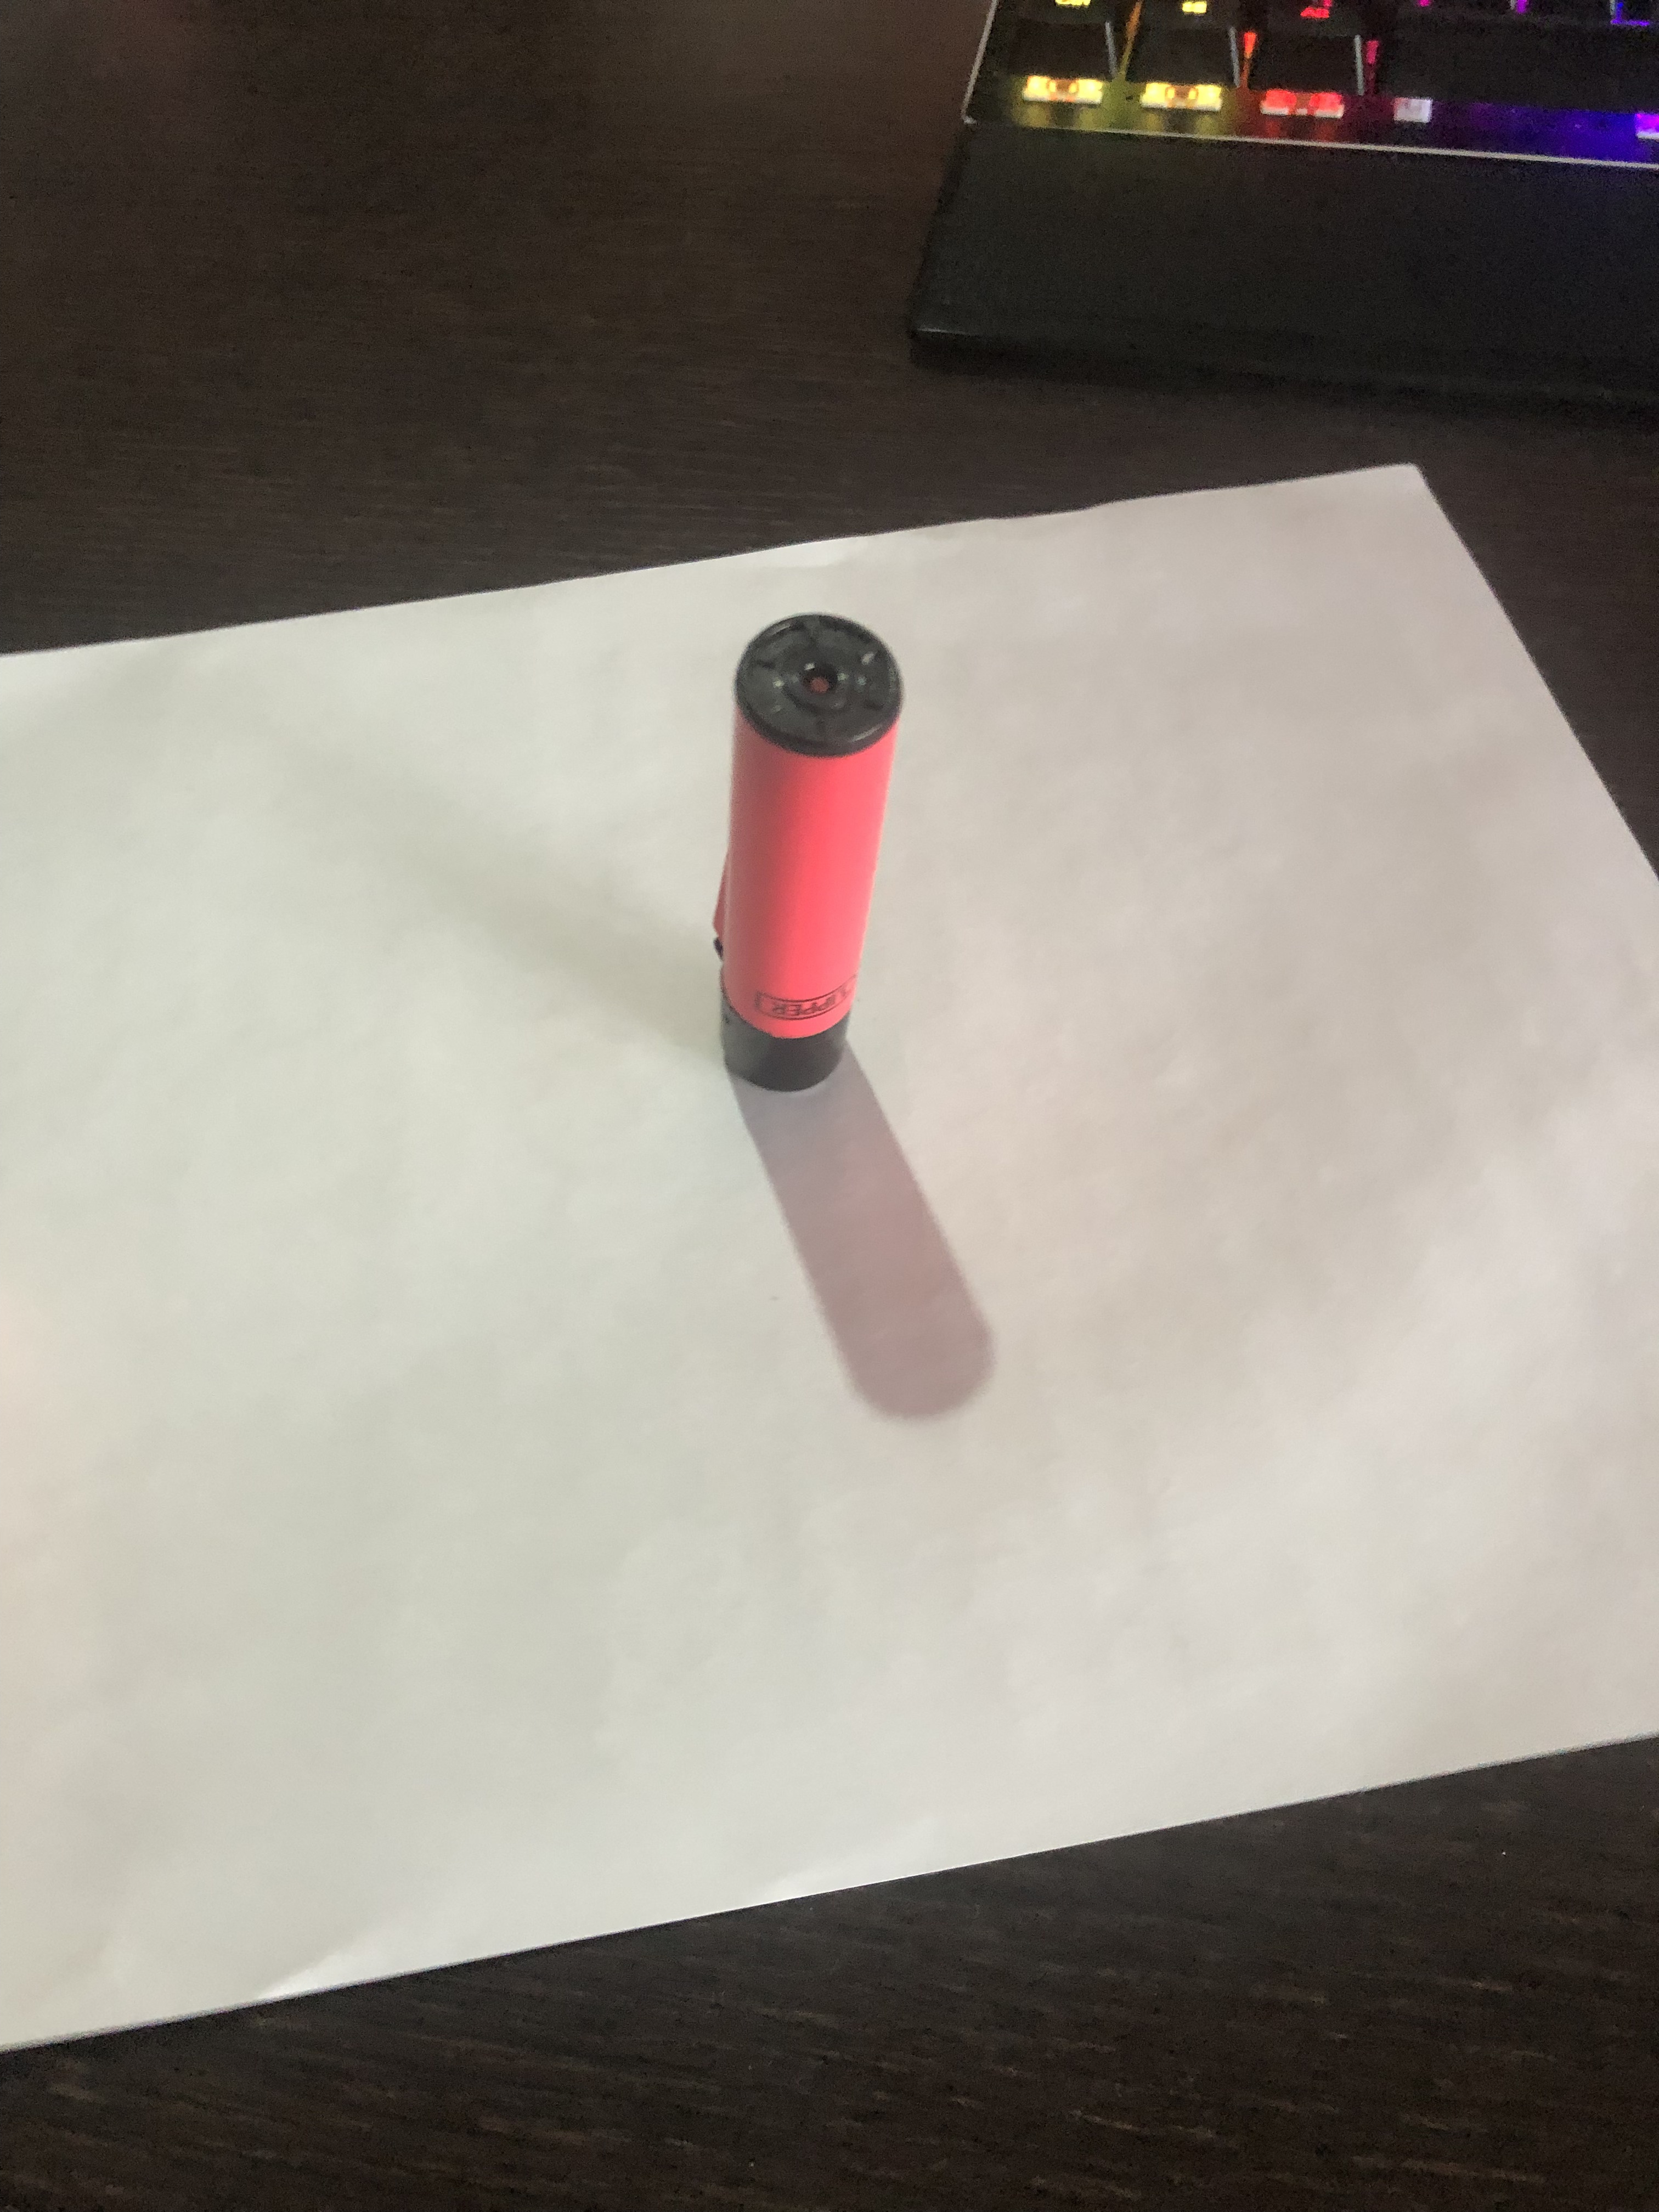Mechero: (688, 592, 911, 1109)
